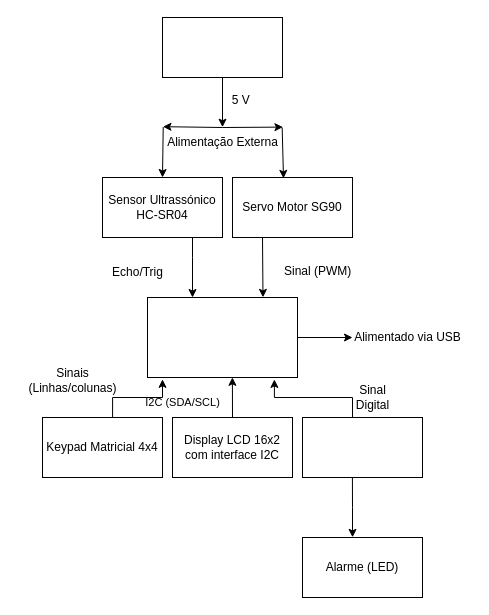
This 489x615 diagram has some shape labels left out. Each missing label, with the box of its shape:
ESP32: (146, 296, 298, 378)
Fonte de Energia Externa: (162, 16, 282, 78)
Módulo de Relé: (302, 416, 422, 478)
